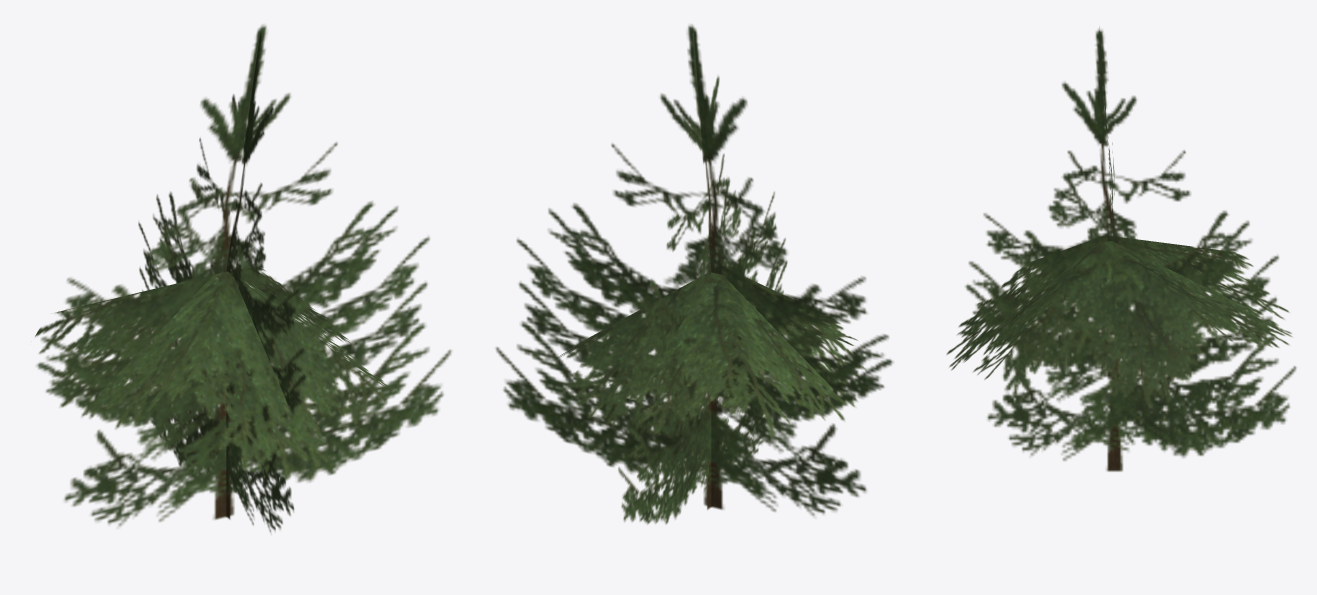
File: forest_bush_04.glb
3 views of the same model, side by side, from view 1: azimuth 30°, elevation 25°; view 2: azimuth 150°, elevation 25°; view 3: azimuth 270°, elevation 25° (orthographic). The views are drawn at different scales.
Parts seen in each view (by area): view 1: Background_Tree_Atlas.011_Background_Tree_Atlas_0; view 2: Background_Tree_Atlas.011_Background_Tree_Atlas_0; view 3: Background_Tree_Atlas.011_Background_Tree_Atlas_0.
Part boxes in pixels (x1,y1,x2,y2): Background_Tree_Atlas.011_Background_Tree_Atlas_0: [35, 25, 451, 532]; Background_Tree_Atlas.011_Background_Tree_Atlas_0: [496, 24, 893, 524]; Background_Tree_Atlas.011_Background_Tree_Atlas_0: [946, 27, 1296, 471].
Bounding box in the file's own units: 0.8965 × 1 × 0.6956.
1 material, 1 textured.
